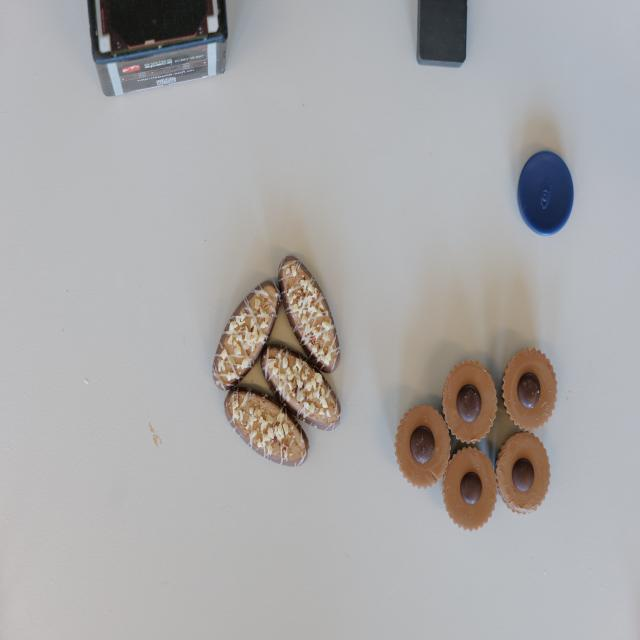Amandina: (278, 254, 341, 374), (214, 280, 280, 393), (224, 386, 311, 468), (261, 344, 342, 432)
Noblesse: (442, 446, 499, 532), (441, 360, 498, 445), (495, 431, 553, 514), (395, 404, 451, 489), (502, 348, 560, 429)
